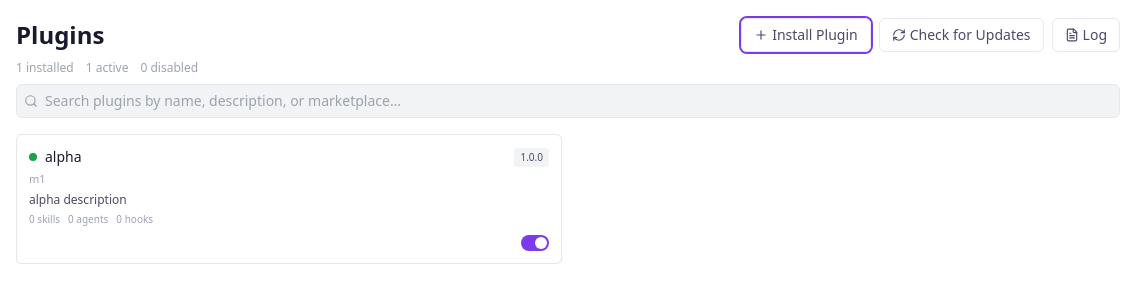
Scenario: PluginListView › Check for Updates clears a previous error on the next successful run
Click the button with test id "check-updates-btn": (961, 35) [879, 18, 1044, 52]
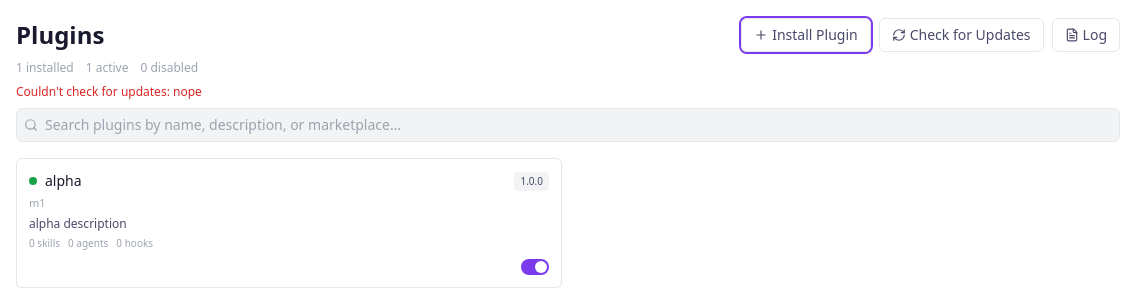
Expected: the message "Couldn't check for updates: nope" is shown, [16, 83, 202, 100]
Click the button with test id "check-updates-btn": (961, 35) [879, 18, 1044, 52]
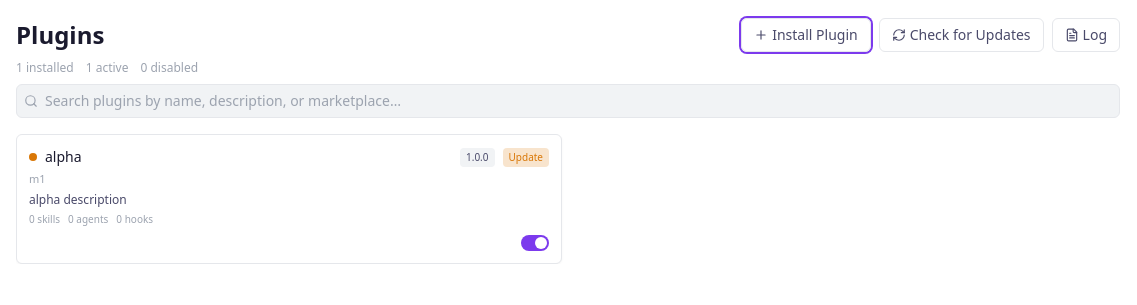
Expected: the message with test id "check-updates-error" is gone
